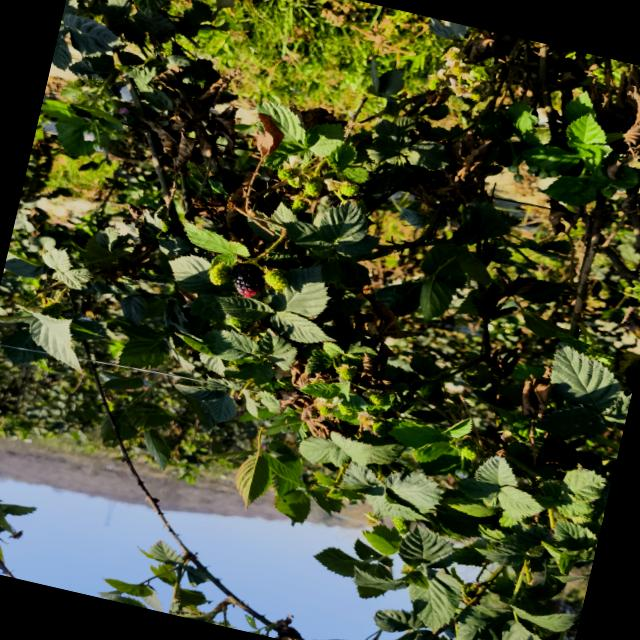marron: (231, 263, 264, 298)
verde: (264, 269, 287, 291), (208, 263, 229, 285)
